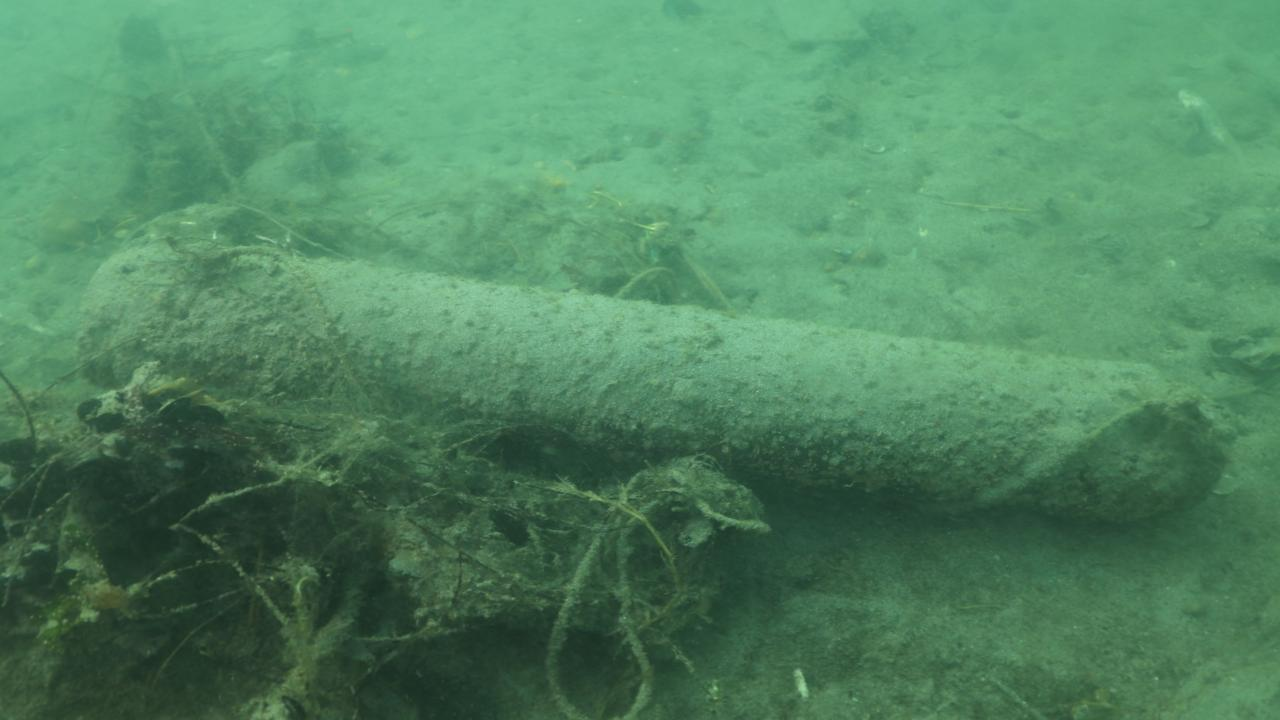eel fish trap: (70, 233, 1230, 527)
other objets: (38, 365, 771, 701)
